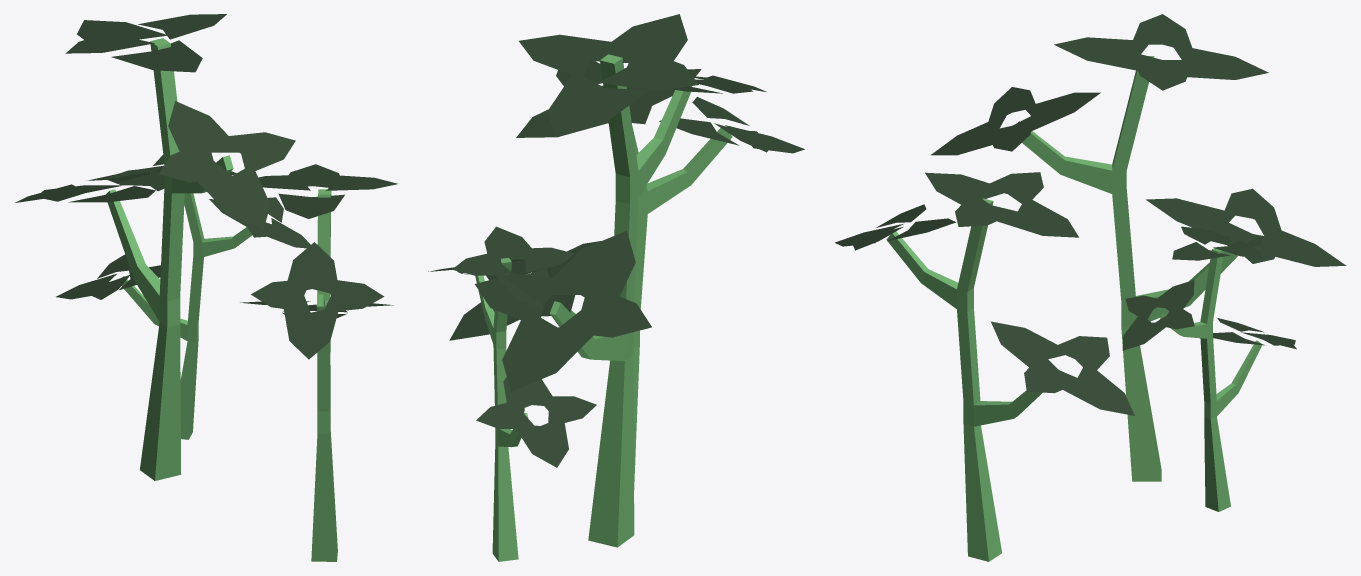
Rendered from catnip.fbx.
The picture shows the model from 3 angles, left to right: view 1: azimuth 30°, elevation 25°; view 2: azimuth 150°, elevation 25°; view 3: azimuth 270°, elevation 25°; orthographic projection. The views are drawn at different scales.
Parts seen in each view (by area): view 1: Cube, Cube.001, Plane.003, Cube.002, Plane.004, Plane.009, Plane.010, Plane.001, Plane.002, Plane.007, Plane.008, Plane.005 (+6 smaller); view 2: Cube, Plane.005, Plane.001, Plane.006, Plane.002, Cube.002, Cube.001, Plane.018, Plane.017, Plane.014, Plane.013, Plane.011 (+6 smaller); view 3: Cube, Cube.001, Cube.002, Plane.001, Plane.011, Plane.005, Plane.007, Plane.002, Plane.012, Plane.003, Plane.008, Plane.006 (+7 smaller).
Part boxes in pixels (box(x1,y1,x2,y2)): Cube: box(106, 38, 233, 480); Cube.001: box(311, 189, 337, 561); Plane.003: box(168, 101, 270, 229); Cube.002: box(122, 193, 251, 439); Plane.004: box(159, 132, 295, 182); Plane.009: box(283, 242, 338, 359); Plane.010: box(251, 278, 384, 312); Plane.001: box(77, 20, 202, 72); Plane.002: box(65, 14, 226, 53); Plane.007: box(278, 164, 344, 218); Plane.008: box(258, 174, 397, 190); Plane.005: box(41, 185, 155, 202); Cube: box(549, 54, 691, 547); Plane.005: box(502, 231, 635, 391); Plane.001: box(547, 14, 687, 136); Plane.006: box(475, 273, 651, 337); Plane.002: box(519, 34, 698, 90); Cube.002: box(475, 258, 528, 561); Cube.001: box(570, 125, 732, 489); Plane.018: box(476, 396, 596, 429); Plane.017: box(503, 377, 568, 467); Plane.014: box(452, 247, 574, 275); Plane.013: box(484, 226, 548, 308); Plane.011: box(449, 241, 600, 340); Cube: box(1018, 56, 1237, 481); Cube.001: box(886, 198, 1042, 561); Cube.002: box(1160, 246, 1262, 511); Plane.001: box(1054, 37, 1268, 79); Plane.011: box(990, 321, 1134, 415); Plane.005: box(1146, 198, 1346, 266); Plane.007: box(925, 172, 1078, 237); Plane.002: box(1131, 14, 1193, 90); Plane.012: box(1024, 336, 1109, 393); Plane.003: box(931, 92, 1100, 155); Plane.008: box(955, 172, 1043, 226); Plane.006: box(1223, 188, 1281, 263).
Size of the model in its own units: 36.99 by 64.48 by 64.29.
